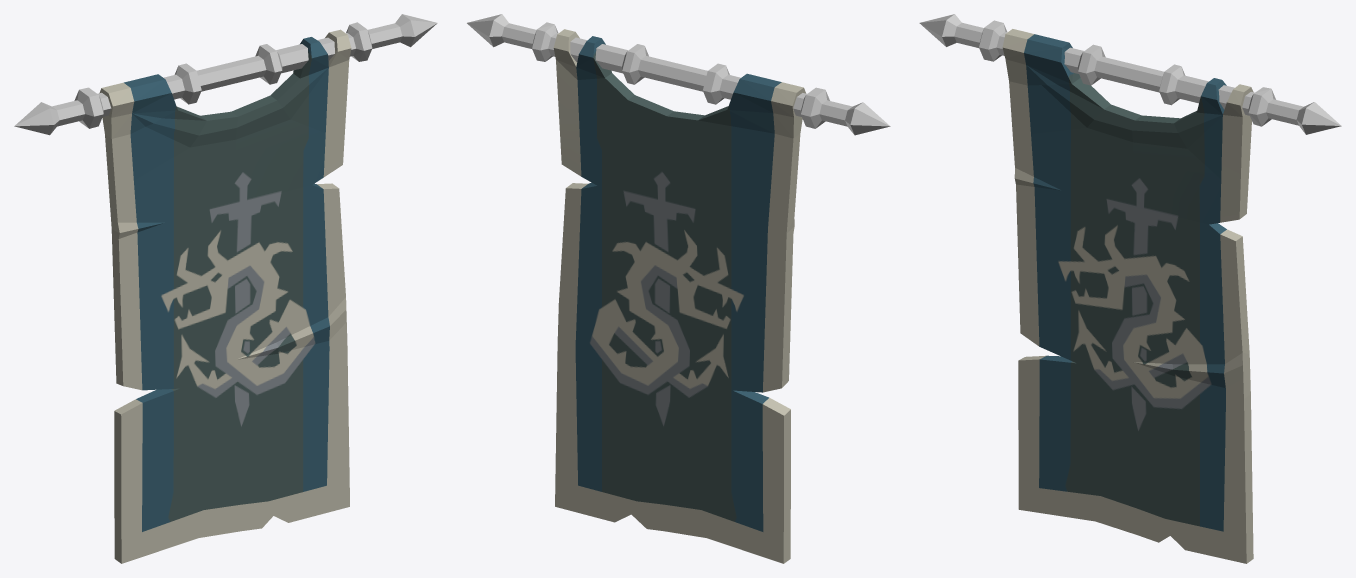
The model's file is SM_Prop_Flag_10.fbx.
3 views of the same model, side by side, from view 1: azimuth 30°, elevation 25°; view 2: azimuth 150°, elevation 25°; view 3: azimuth 330°, elevation 25° (orthographic).
Visible parts, largest first — view 1: SM_Prop_Flag_10_Flag, SM_Prop_Flag_10; view 2: SM_Prop_Flag_10_Flag, SM_Prop_Flag_10; view 3: SM_Prop_Flag_10_Flag, SM_Prop_Flag_10.
Boxes of the visible parts, x1,y1,x2,y2 form: SM_Prop_Flag_10_Flag: [99, 29, 351, 563]; SM_Prop_Flag_10: [14, 14, 437, 135]; SM_Prop_Flag_10_Flag: [553, 29, 805, 563]; SM_Prop_Flag_10: [467, 14, 890, 135]; SM_Prop_Flag_10_Flag: [1002, 29, 1253, 563]; SM_Prop_Flag_10: [919, 14, 1341, 134].
Size of the model in its own units: 120 by 129 by 9.97.
